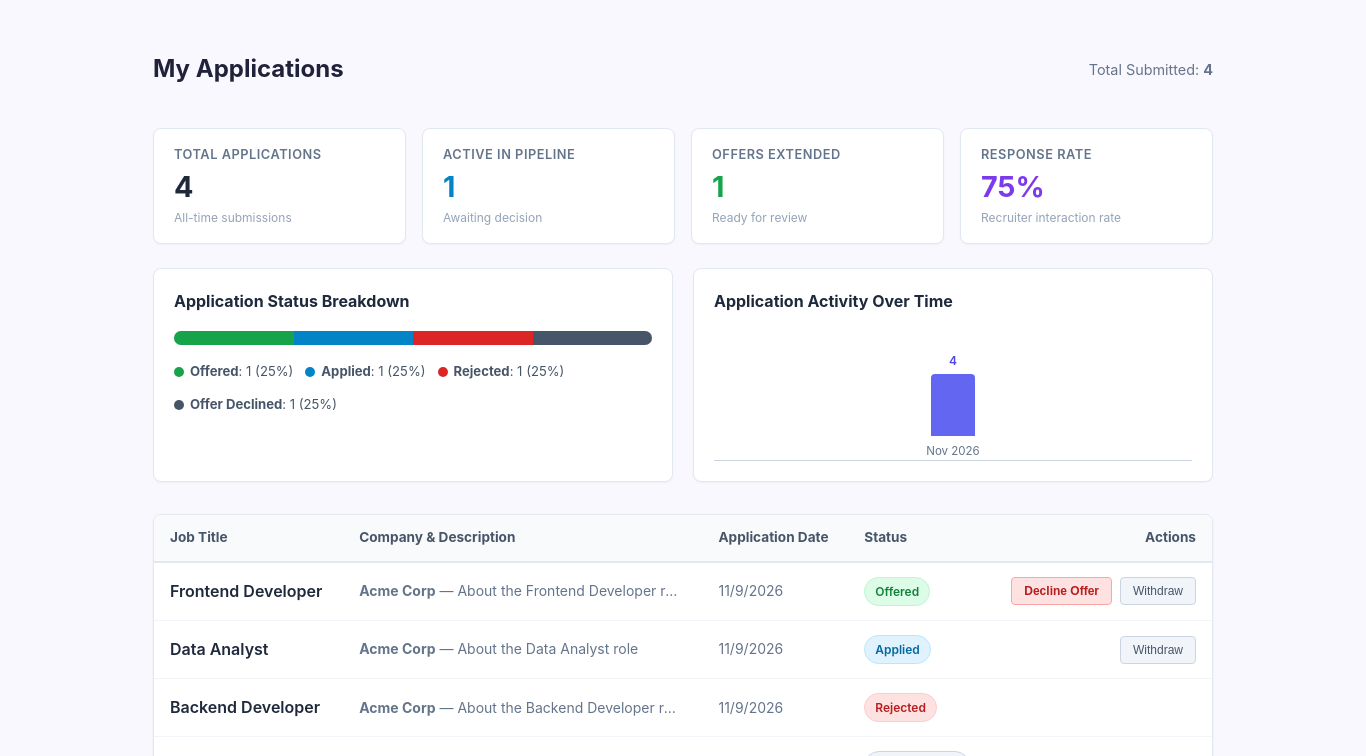
Test: ApplicationHistory › decline offer (SCRUM-309) › asks for confirmation, declines, and shows the new status after reloading
Expected: the text "Frontend Developer" is shown, [154,562,343,620]
Click the button "Decline Offer" at (1062, 591), box [1011,577,1112,605]
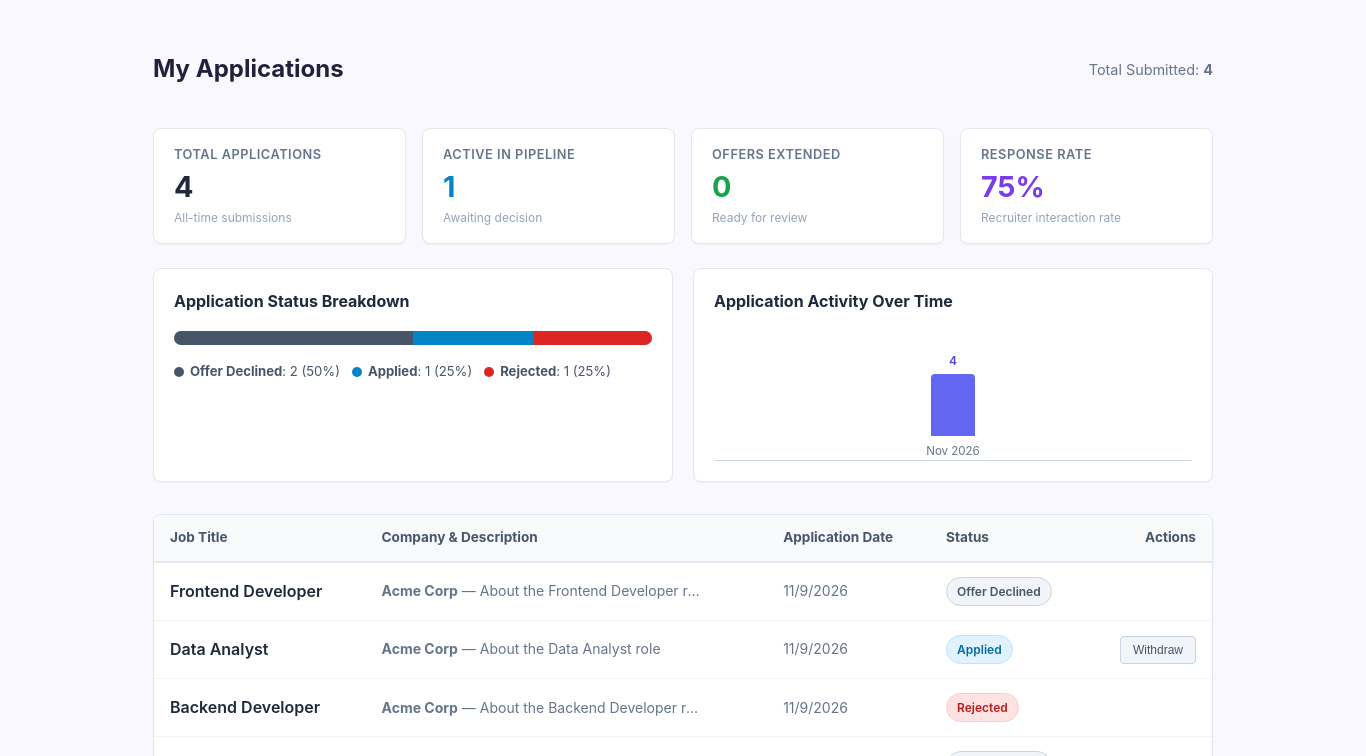
Expected: the text "Offer Declined" in the row of "About the Frontend Developer role" is shown, [957,584,1041,599]
Expected: the button "Decline Offer" is gone
